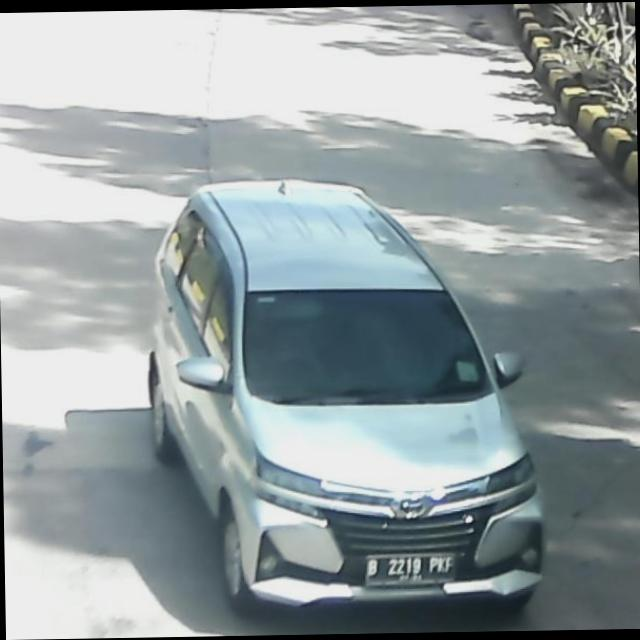plate: (364, 550, 461, 590)
